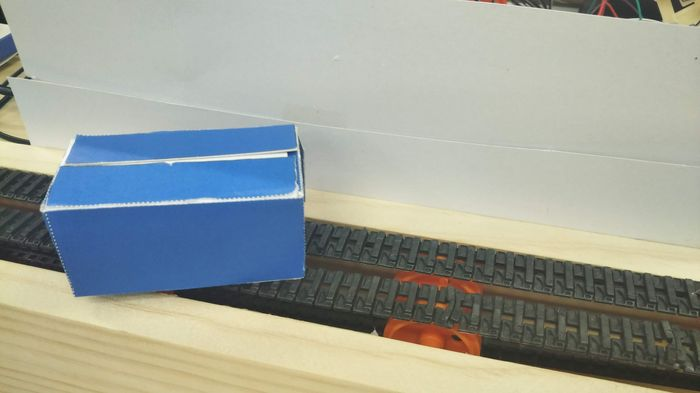box3: (40, 121, 308, 298)
